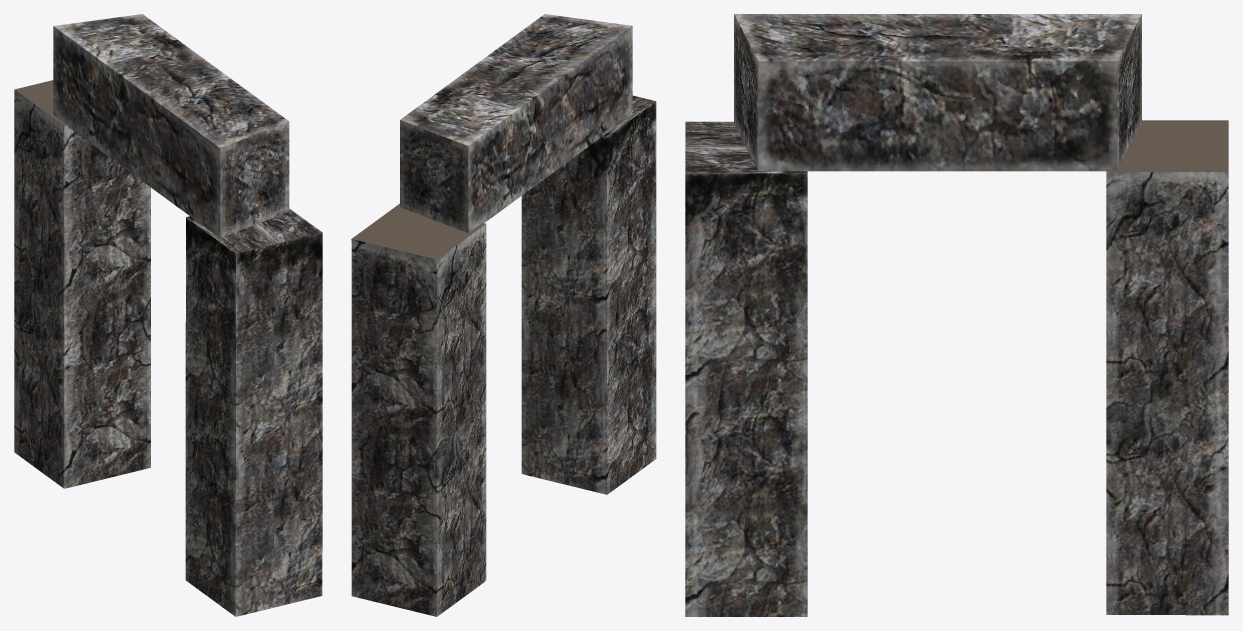
3 renders of one model, left to right at view 1: azimuth 30°, elevation 25°; view 2: azimuth 150°, elevation 25°; view 3: azimuth 270°, elevation 25°, orthographic. The views are drawn at different scales.
Parts seen in each view (by area): view 1: hr_mk4; view 2: hr_mk4; view 3: hr_mk4.
Boxes of the visible parts, left/top/right/bottom form: hr_mk4: left=14, top=14, right=322, bottom=616; hr_mk4: left=351, top=14, right=656, bottom=616; hr_mk4: left=685, top=14, right=1228, bottom=616.
Size of the model in its own units: 1.82 by 9.01 by 8.01.
6 materials, 6 textured.
